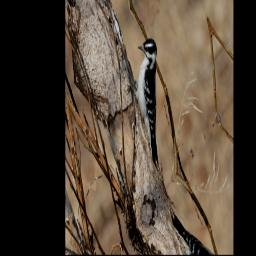Woodpecker: (119, 28, 185, 176)
